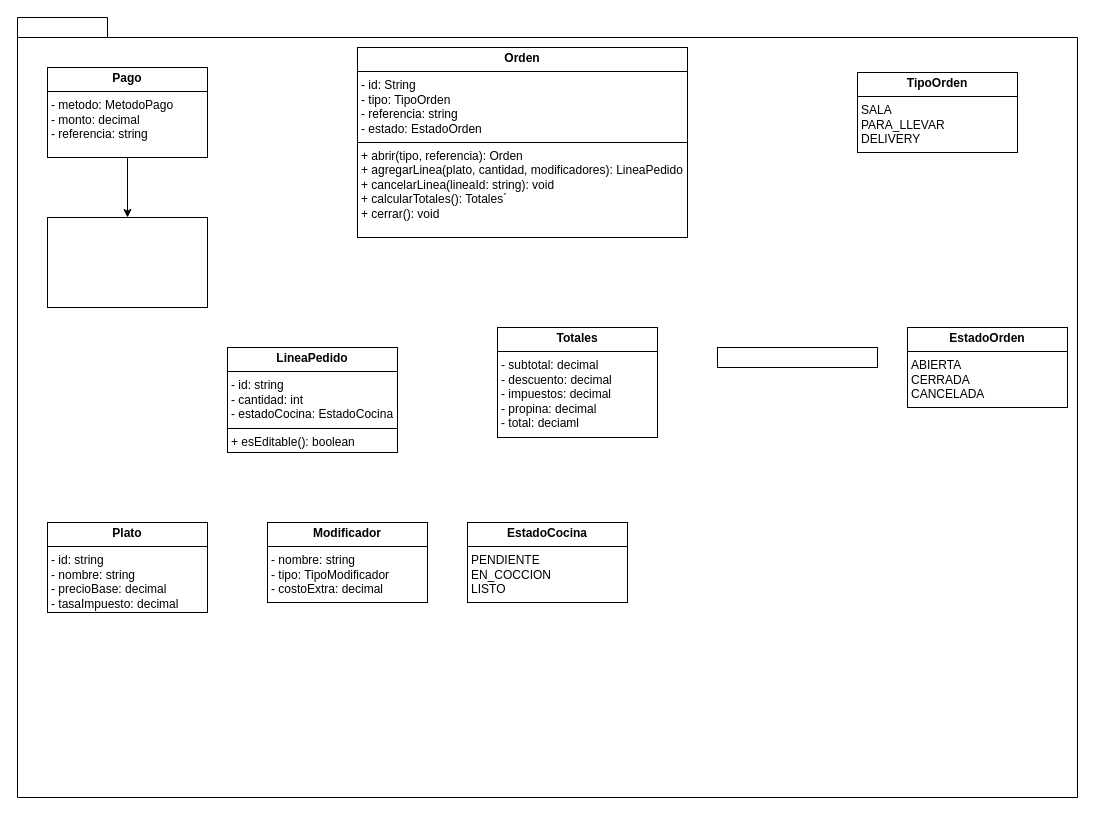
Image size: 1095x815. Some labels were removed from this diagram. The shapes that lost their labels are listed below. From the top down, each one's centre as x and y in pixels, then its label:
At [127,262]: "MetodoPago EFECTIVO TARJETA PASARELA_DIGITAL".
At [797,357]: "ReglaDeNegocioExcepcion".
